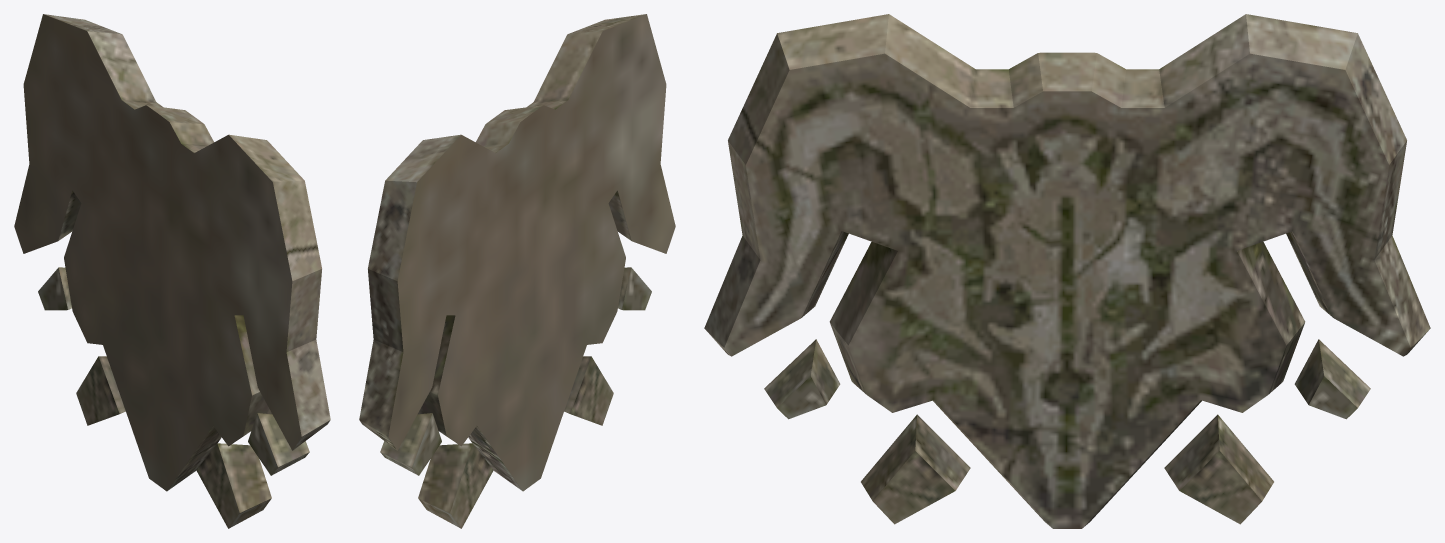
File: bg_lut_lutomb_deco07_sm_old.FBX
3 views of the same model, side by side, from view 1: azimuth 30°, elevation 25°; view 2: azimuth 150°, elevation 25°; view 3: azimuth 270°, elevation 25° (orthographic). The views are drawn at different scales.
Parts seen in each view (by area): view 1: bg_lut_lutomb_deco07_sm_old; view 2: bg_lut_lutomb_deco07_sm_old; view 3: bg_lut_lutomb_deco07_sm_old.
Part boxes in pixels (<box>): bg_lut_lutomb_deco07_sm_old: <box>14,14,330,528</box>; bg_lut_lutomb_deco07_sm_old: <box>359,14,675,528</box>; bg_lut_lutomb_deco07_sm_old: <box>704,14,1430,528</box>.
Bounding box in the file's own units: 7 × 72.82 × 94.35.
